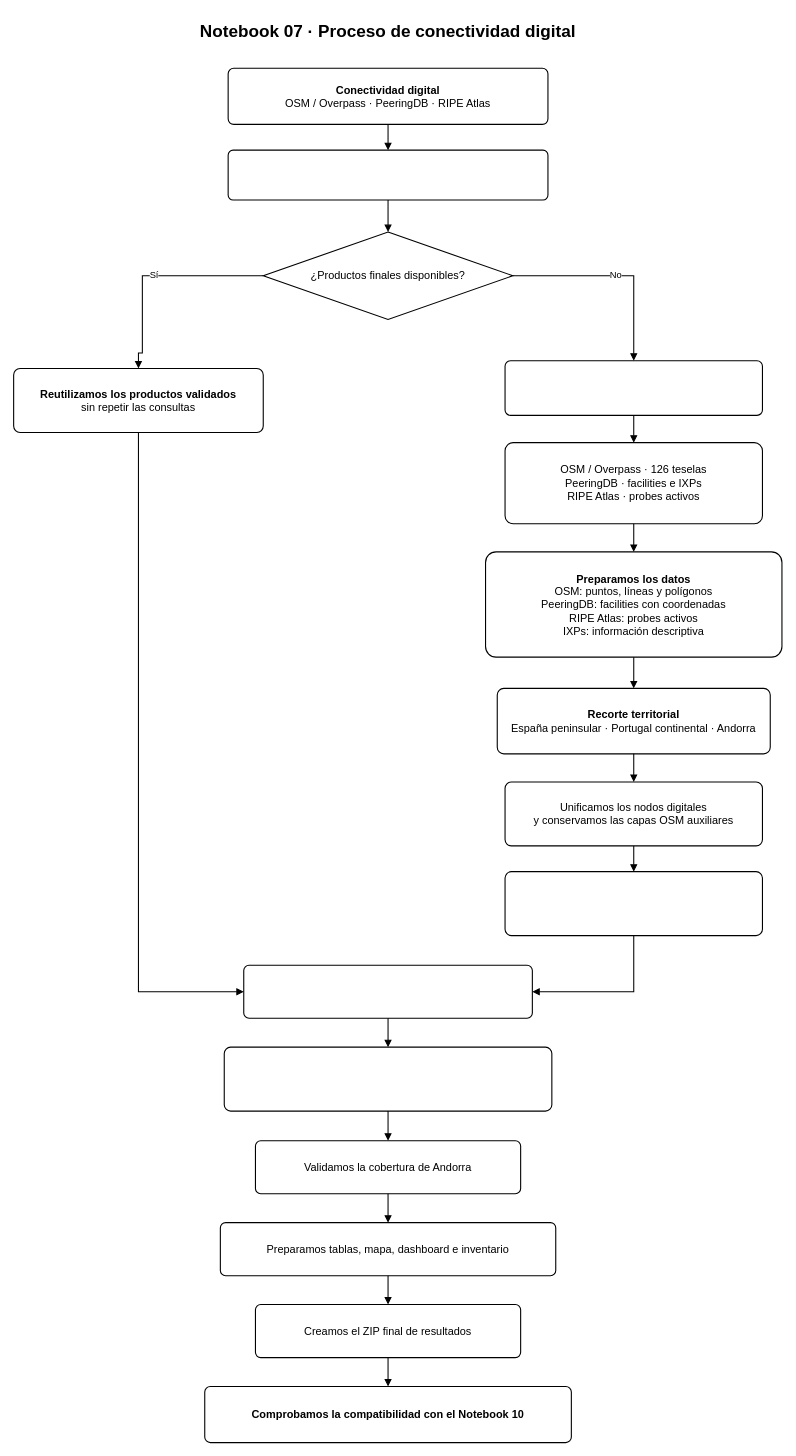
This 796x1456 diagram has some shape labels left out. Here are the shapes that lost their labels. From the top down, the box of each, then its label:
(227, 149, 548, 200): Buscamos los productos validados en Kaggle Input
(504, 360, 763, 416): Consultamos las fuentes abiertas
(504, 871, 763, 936): Guardamos los mismos productos finales en EPSG:4326 y EPSG:3035
(243, 964, 533, 1018): Cargamos las capas finales
(223, 1046, 552, 1111): Control de calidad geometrías · CRS · identificadores duplicados
